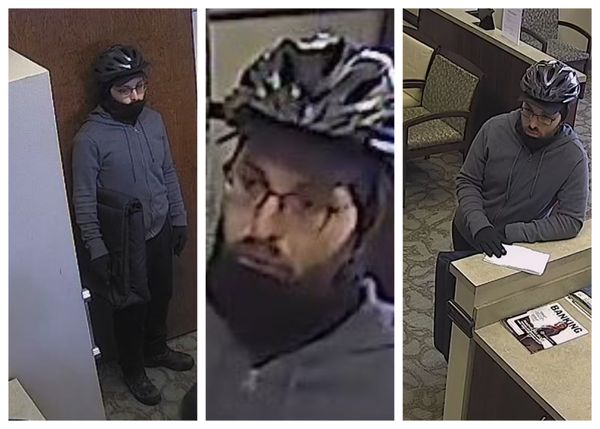helmet: (217, 24, 386, 144), (75, 31, 155, 79), (517, 47, 582, 106)
